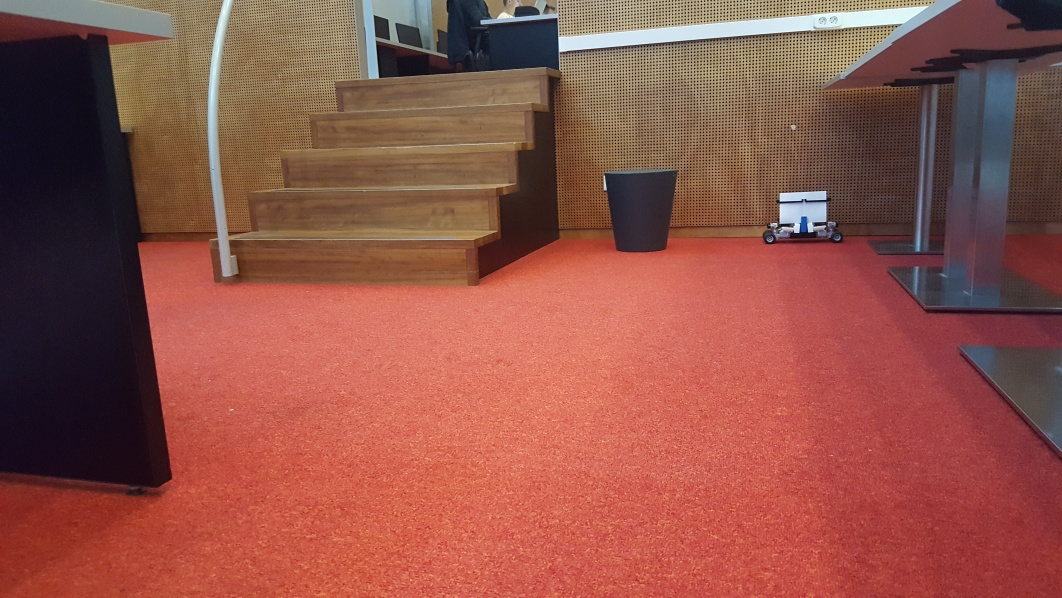car: (762, 188, 843, 246)
